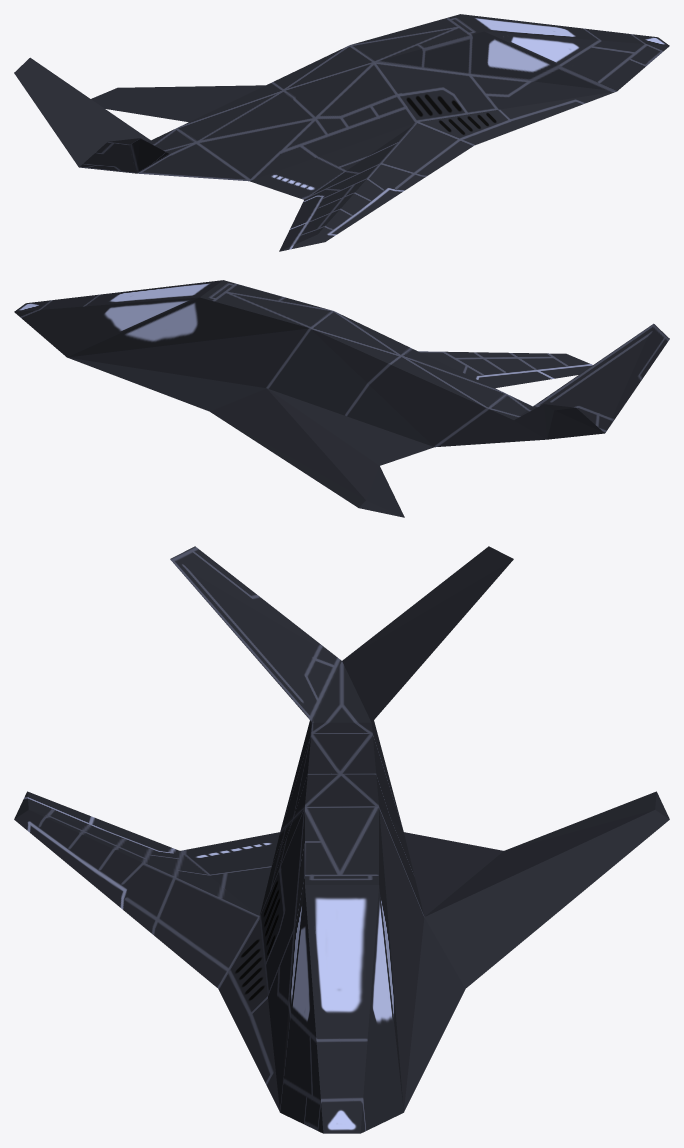
File: night_trance.gltf
3 renders of one model, top to bottom at view 1: azimuth 30°, elevation 25°; view 2: azimuth 150°, elevation 25°; view 3: azimuth 270°, elevation 25°, orthographic. The views are drawn at different scales.
Visible parts, largest first — view 1: root; view 2: root; view 3: root.
Part boxes in pixels (x1,y1,x2,y2): root: [14, 14, 669, 251]; root: [14, 280, 669, 517]; root: [14, 546, 669, 1133].
Size of the model in its own units: 7.42 by 1.24 by 4.47.
1 material, 1 textured.
